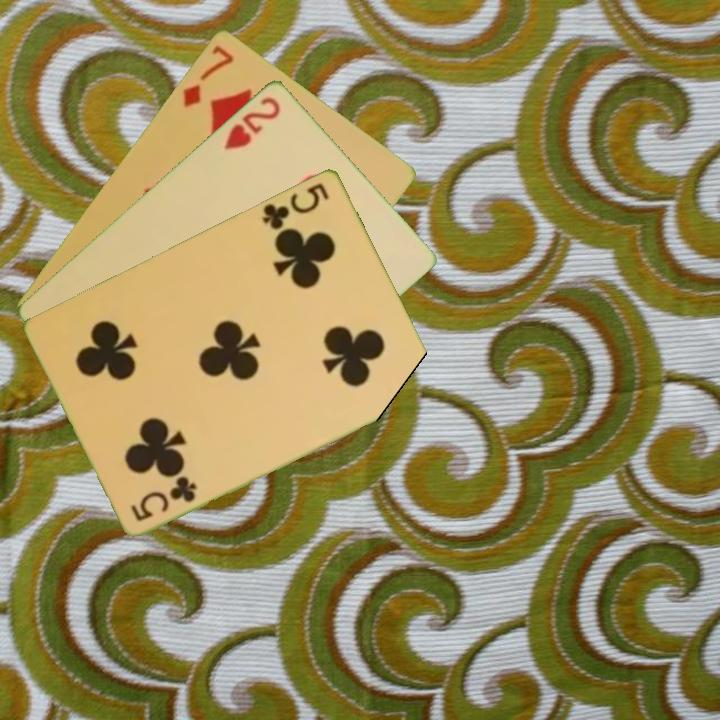2h: (220, 92, 284, 153)
5c: (258, 178, 332, 233), (127, 473, 199, 524)
7d: (179, 41, 236, 110)
